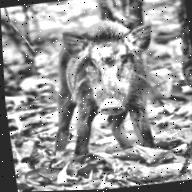boar: (23, 13, 175, 171)
